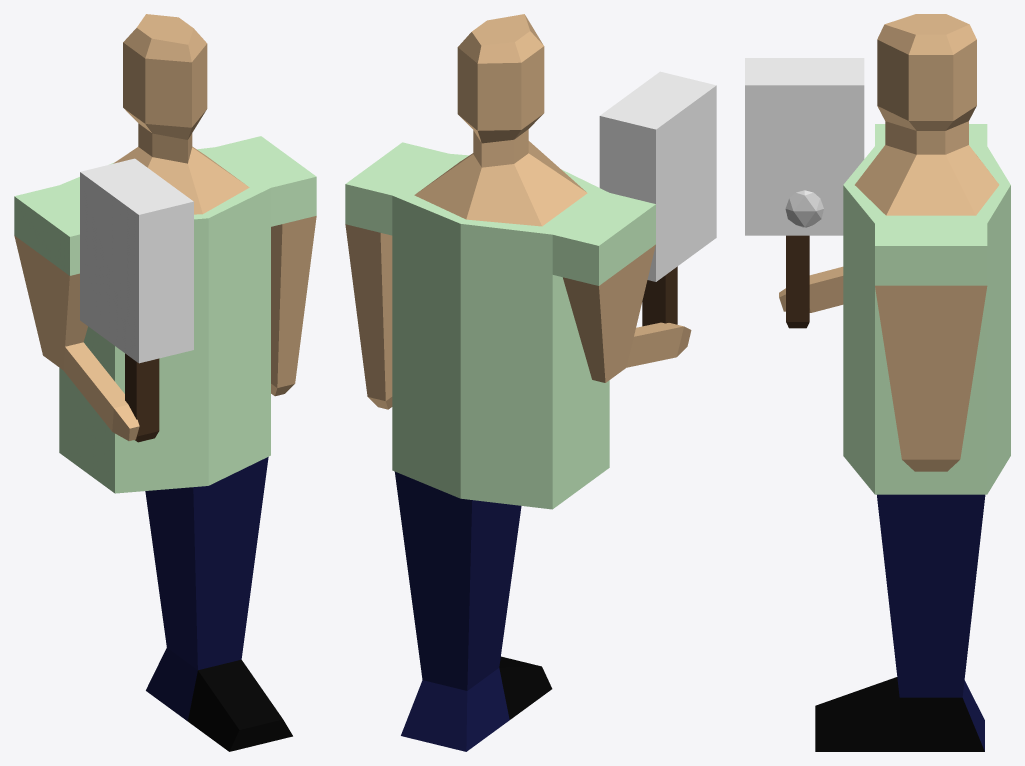
3 views of the same model, side by side, from view 1: azimuth 30°, elevation 25°; view 2: azimuth 150°, elevation 25°; view 3: azimuth 270°, elevation 25° (orthographic). The views are drawn at different scales.
Visible parts, largest first — view 1: Cube, Cube.001, Smoke Domain, Cube.002; view 2: Cube, Cube.001, Smoke Domain, Cube.002; view 3: Cube, Cube.001, Smoke Domain, Cube.002, Icosphere.
Part boxes in pixels (x1=…): Cube: x1=14, y1=14, x2=316, y2=493; Cube.001: x1=145, y1=457, x2=292, y2=751; Smoke Domain: x1=80, y1=158, x2=193, y2=363; Cube.002: x1=125, y1=353, x2=159, y2=442; Cube: x1=345, y1=14, x2=691, y2=509; Cube.001: x1=394, y1=471, x2=552, y2=751; Smoke Domain: x1=599, y1=71, x2=716, y2=281; Cube.002: x1=642, y1=266, x2=677, y2=326; Cube: x1=779, y1=14, x2=1010, y2=494; Cube.001: x1=815, y1=494, x2=985, y2=751; Smoke Domain: x1=745, y1=58, x2=864, y2=235; Cube.002: x1=786, y1=235, x2=809, y2=328; Icosphere: x1=785, y1=190, x2=823, y2=227.
Size of the model in its own units: 3.16 by 8.37 by 2.91.
